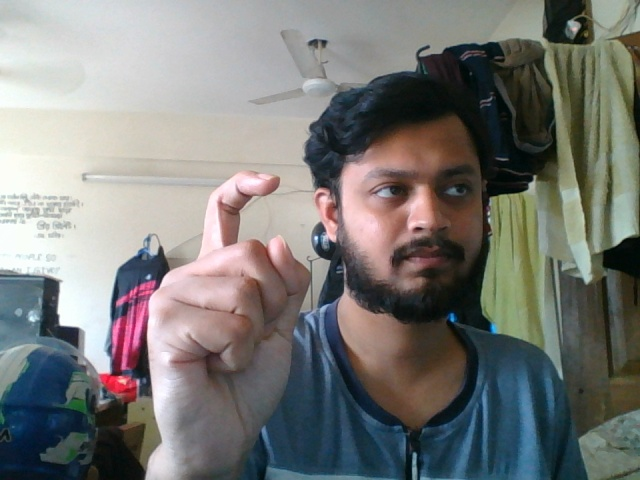e: (133, 167, 325, 450)
